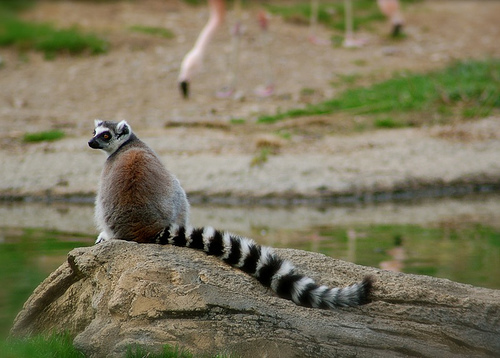cat: (88, 118, 384, 311)
